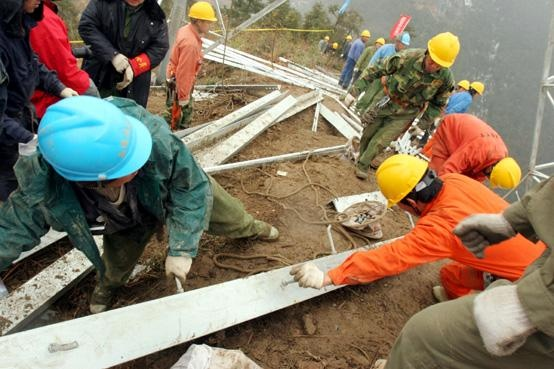blue: (33, 93, 152, 193), (394, 31, 411, 52)
yellow: (372, 151, 440, 217), (424, 31, 460, 73), (485, 153, 522, 190), (185, 1, 217, 34), (467, 80, 484, 98), (457, 77, 470, 93), (359, 29, 371, 43), (374, 37, 385, 48)
